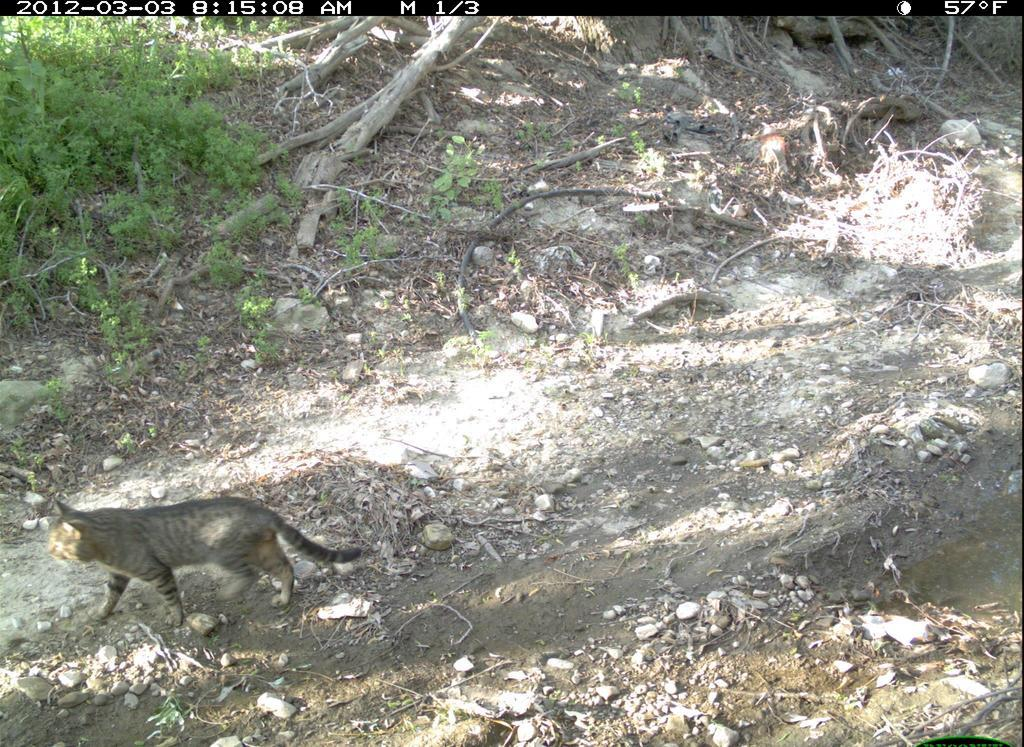cat: (39, 488, 369, 637)
